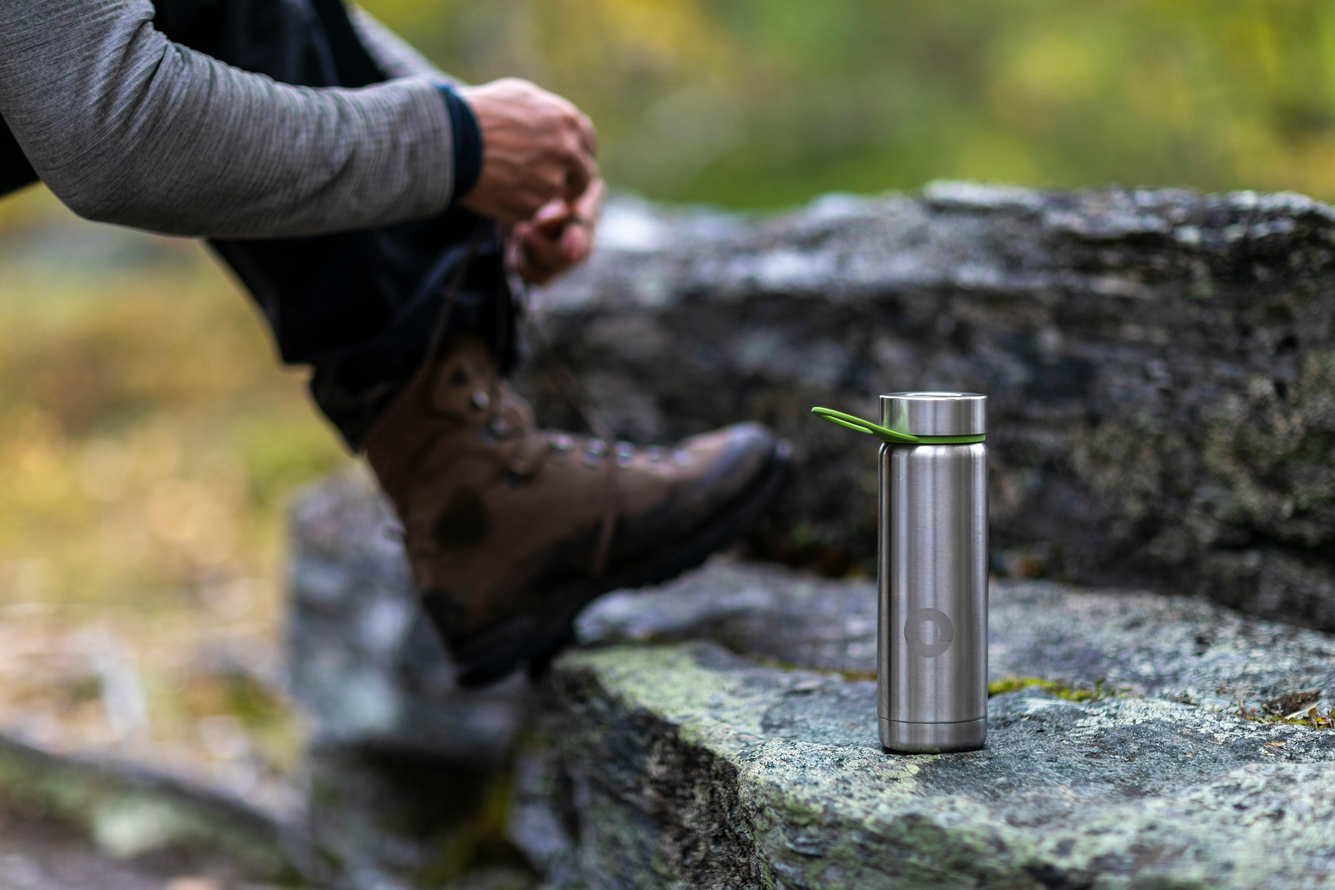Bottle-Detection: (797, 348, 1067, 789)
